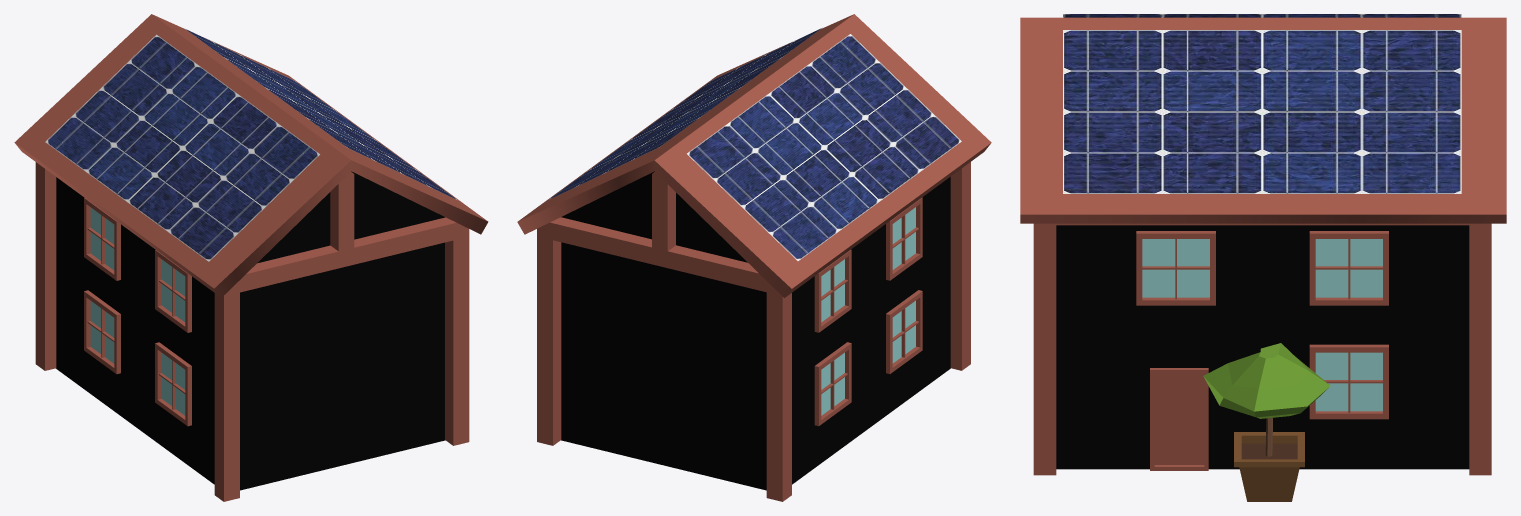
File: newHouse1 1.fbx
3 renders of one model, left to right at view 1: azimuth 30°, elevation 25°; view 2: azimuth 150°, elevation 25°; view 3: azimuth 270°, elevation 25°, orthographic. The views are drawn at different scales.
Visible parts, largest first — view 1: Wohnhaus2.001, Plane.006, Wohnhaus5.002, Cube.003, Plane.020, Plane.007; view 2: Wohnhaus2.001, Plane.006, Wohnhaus5.002, Cube.003, Plane.020, Plane.007; view 3: Wohnhaus2.001, Plane.006, Wohnhaus5.002, Cube.003, Plane.007, Cube.028, Plane.033, Plane.020.
Boxes of the visible parts, x1=… form: Wohnhaus2.001: x1=56, y1=171, x2=445, y2=490; Plane.006: x1=45, y1=28, x2=456, y2=261; Wohnhaus5.002: x1=14, y1=14, x2=488, y2=297; Cube.003: x1=35, y1=162, x2=469, y2=501; Plane.020: x1=84, y1=290, x2=191, y2=426; Plane.007: x1=84, y1=198, x2=191, y2=332; Wohnhaus2.001: x1=561, y1=171, x2=950, y2=490; Plane.006: x1=549, y1=27, x2=961, y2=260; Wohnhaus5.002: x1=517, y1=14, x2=991, y2=297; Cube.003: x1=537, y1=162, x2=970, y2=501; Plane.020: x1=814, y1=290, x2=922, y2=426; Plane.007: x1=814, y1=197, x2=922, y2=332; Wohnhaus2.001: x1=1056, y1=225, x2=1469, y2=469; Plane.006: x1=1063, y1=14, x2=1461, y2=193; Wohnhaus5.002: x1=1020, y1=17, x2=1506, y2=223; Cube.003: x1=1033, y1=223, x2=1491, y2=475; Plane.007: x1=1136, y1=231, x2=1388, y2=305; Cube.028: x1=1203, y1=343, x2=1330, y2=501; Plane.033: x1=1150, y1=368, x2=1208, y2=470; Plane.020: x1=1309, y1=344, x2=1388, y2=419.
Bounding box in the file's own units: 9.03 × 8.14 × 9.31.
